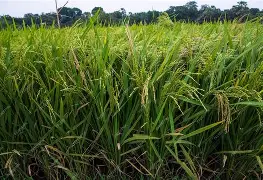crops: (0, 16, 260, 179), (0, 1, 257, 28), (156, 121, 221, 177), (208, 25, 262, 90), (4, 21, 100, 57), (40, 138, 109, 178), (214, 83, 261, 134), (113, 20, 175, 58), (212, 143, 261, 177), (173, 27, 213, 67), (91, 5, 127, 23), (154, 11, 172, 27)
